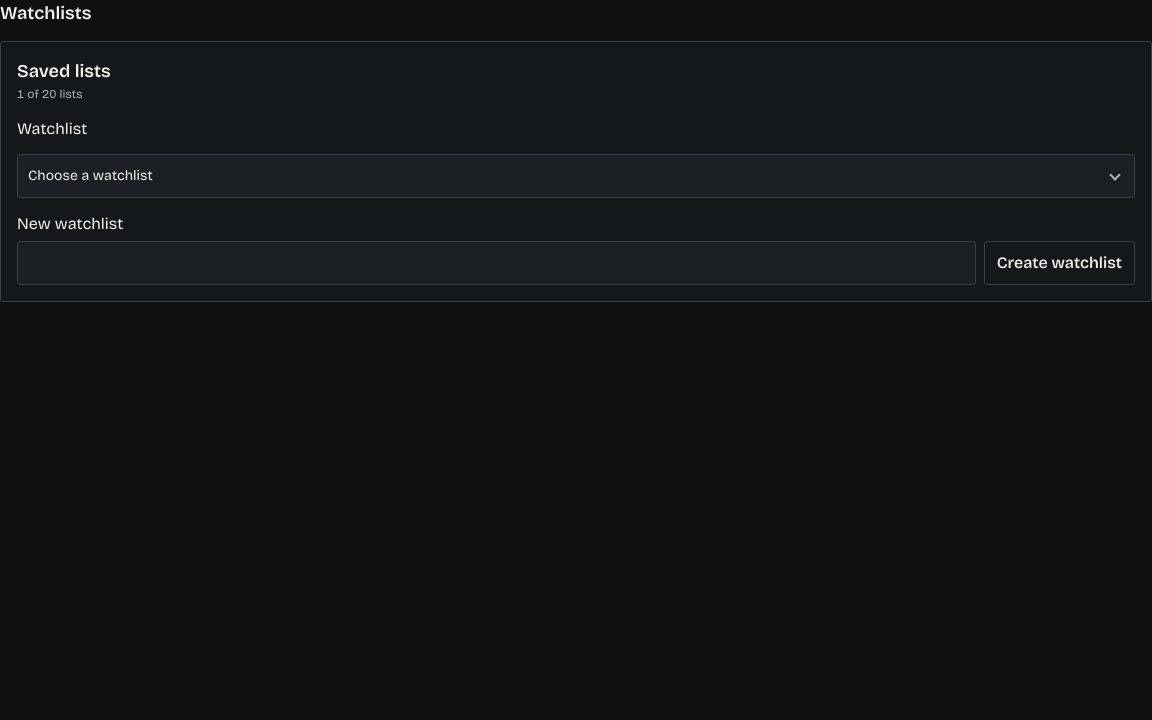
Watchlists › does not paint or refetch owner B from owner A's late create acknowledgement
The width and height of the screenshot is (1152, 720).
Later steps or results of the test are not shown.
Select "Alpha Book" in the dropdown labelled "Watchlist" at (576, 176), box x1=17 y1=154 x2=1135 y2=198
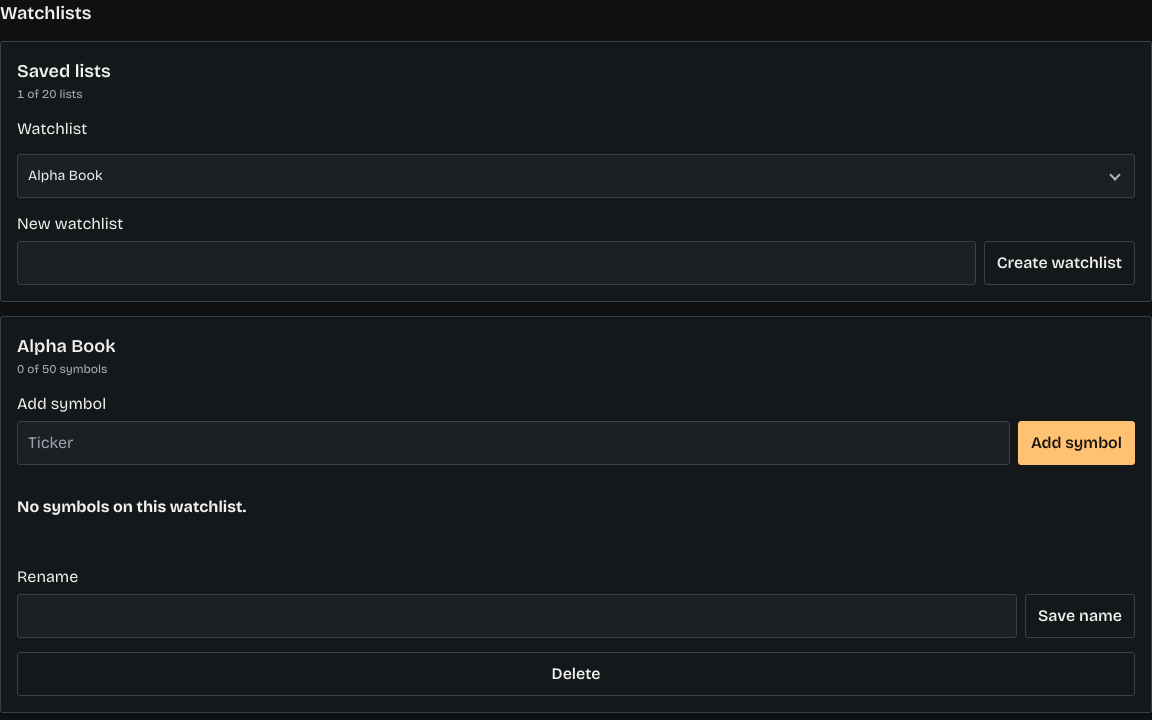
Type "Pending Alpha" into the field labelled "New watchlist" at (496, 263), box x1=17 y1=241 x2=976 y2=285
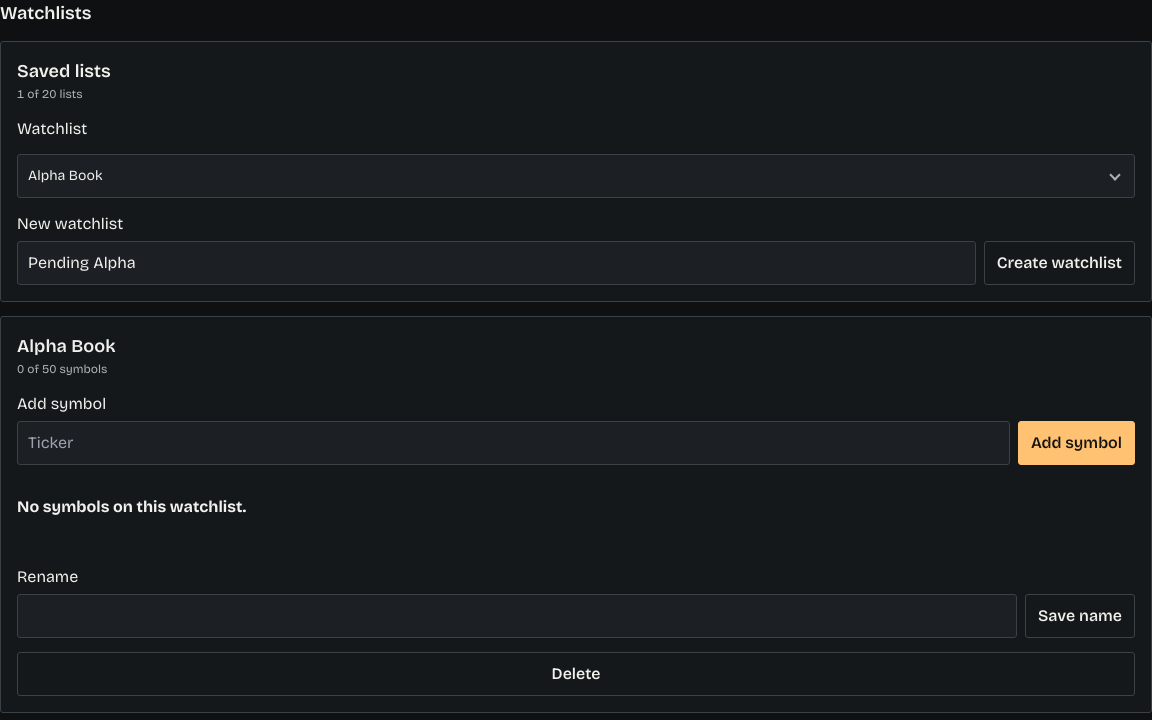
Click the button "Create watchlist" at (1059, 263), box x1=984 y1=241 x2=1135 y2=285
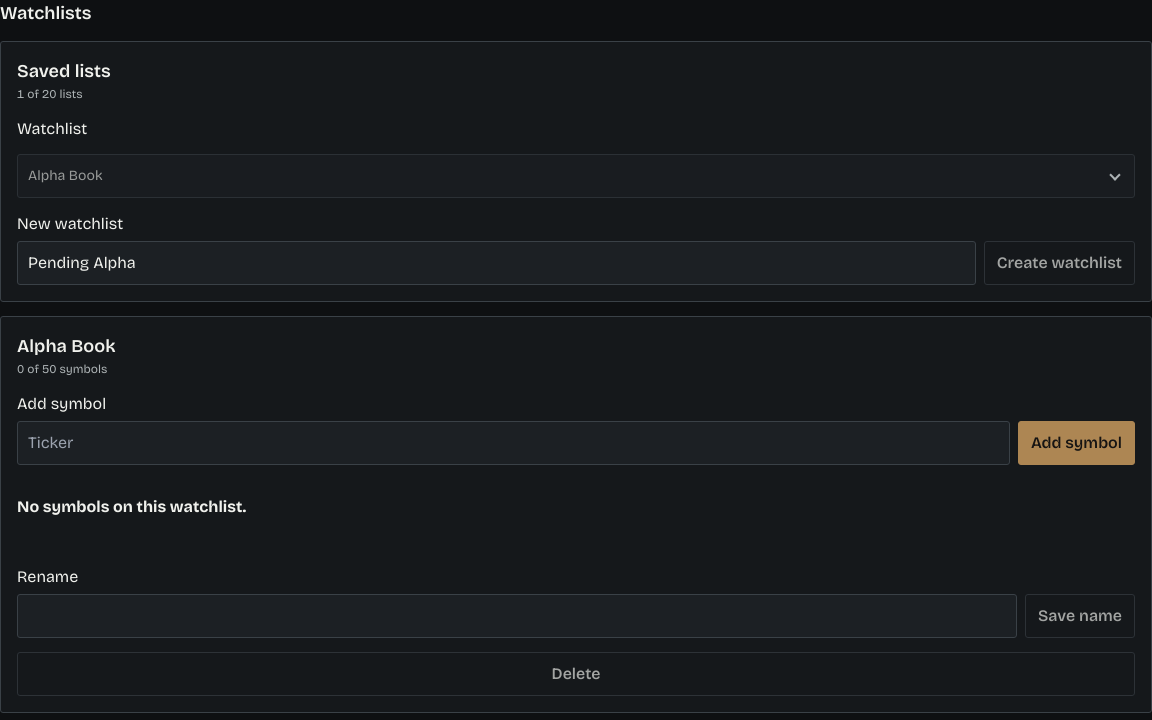
Expected: the dropdown labelled "Watchlist" is disabled, x1=17 y1=154 x2=1135 y2=198
Expected: the button "Create watchlist" is disabled, x1=984 y1=241 x2=1135 y2=285
